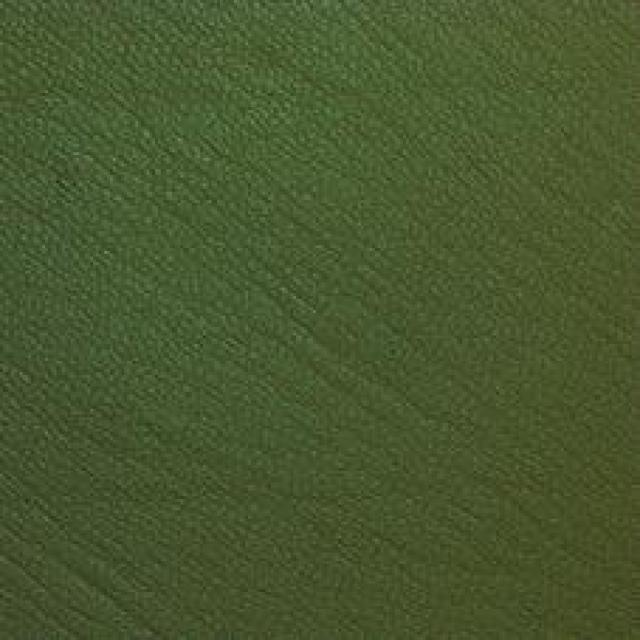Growth Marks: (182, 203, 464, 397), (77, 459, 562, 560)
